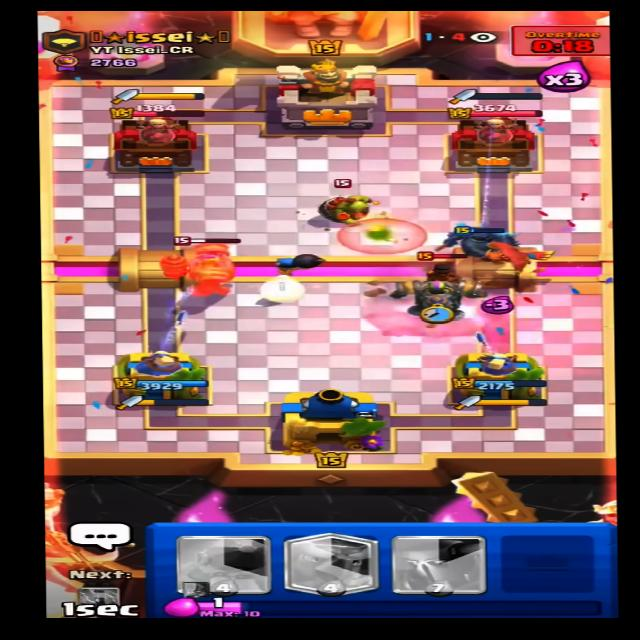goblin-demolisher: (307, 181, 383, 226)
goblin-machine: (155, 235, 259, 290)
ram-rider: (404, 245, 462, 300)
